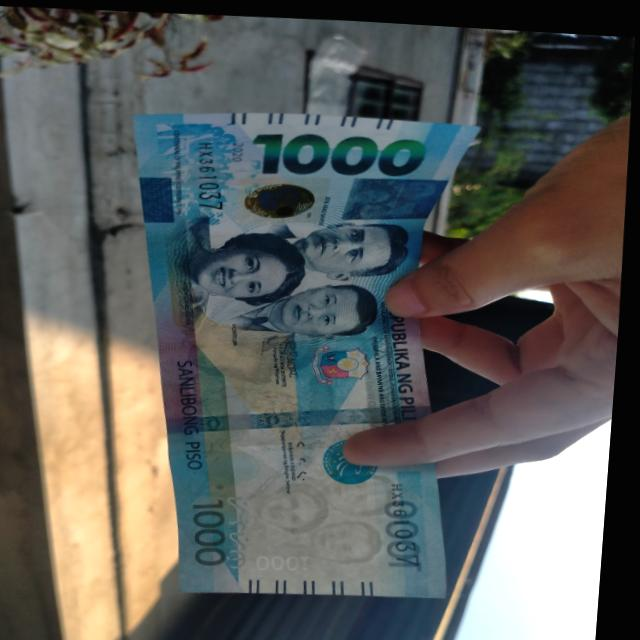concealed_value: (343, 173, 451, 215)
optically_variable_device: (240, 170, 331, 221)
security_thread: (172, 401, 439, 430)
see_through_mark: (226, 490, 262, 569)
serial_number: (384, 462, 434, 567), (191, 134, 233, 212)
value: (251, 123, 431, 180)
value_watermark: (258, 549, 323, 569)
watermark: (252, 460, 413, 566)
